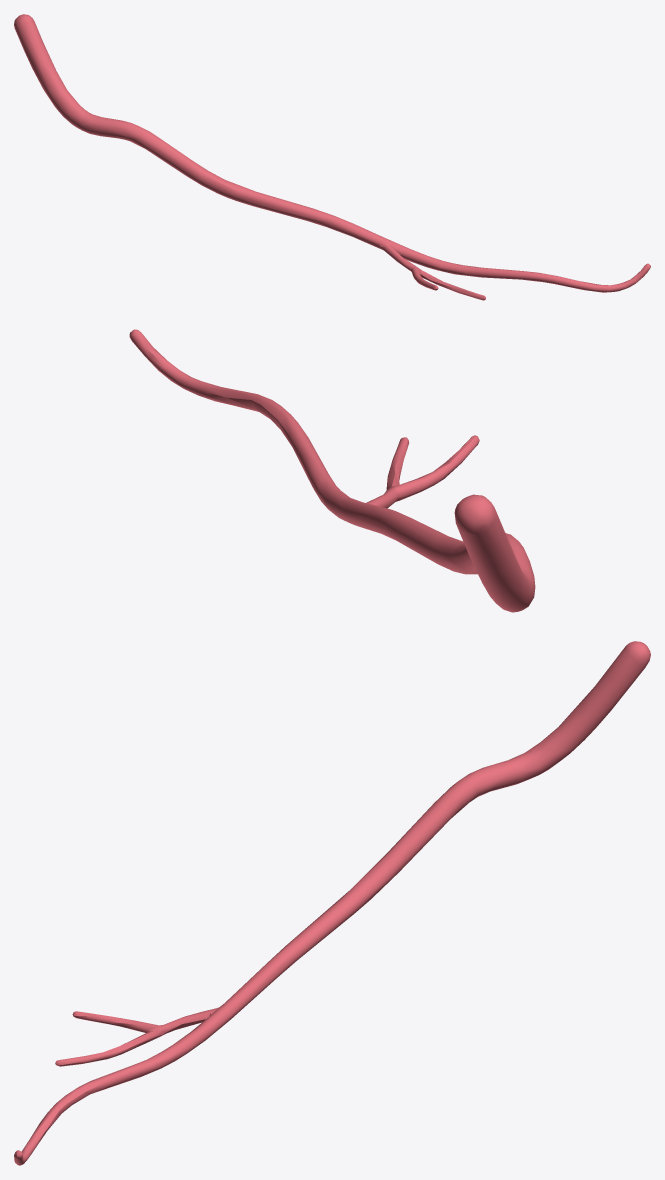
File: fma50926_fj5193.glb
3 views of the same model, one above another, from view 1: azimuth 30°, elevation 25°; view 2: azimuth 150°, elevation 25°; view 3: azimuth 270°, elevation 25° (orthographic). The views are drawn at different scales.
Visible parts, largest first — view 1: FMA50926_FJ5193; view 2: FMA50926_FJ5193; view 3: FMA50926_FJ5193.
Part boxes in pixels (box(x1,y1,x2,y2)): FMA50926_FJ5193: box(14, 14, 650, 300); FMA50926_FJ5193: box(129, 329, 535, 612); FMA50926_FJ5193: box(14, 641, 650, 1165).
Size of the model in its own units: 0.0351 by 0.0165 by 0.0348.
